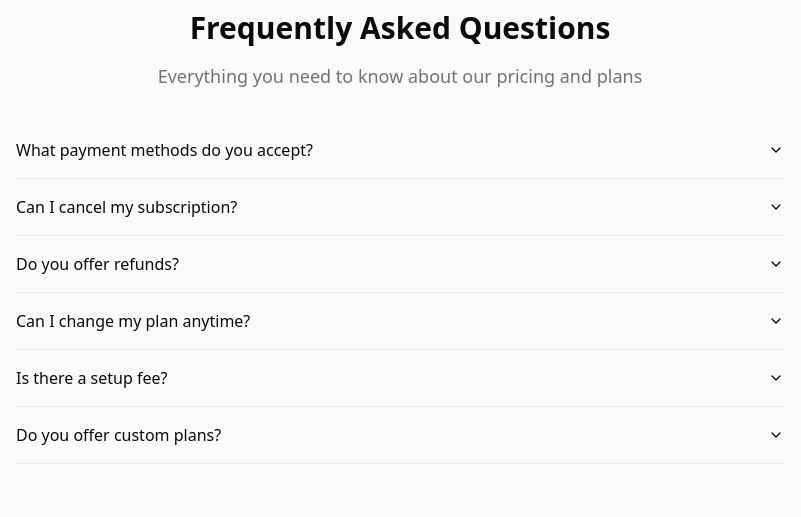
Test: PricingFAQ › renders FAQ questions and answers
Click the button "What payment methods do you accept?" at (164, 150), box [16,122,784,178]
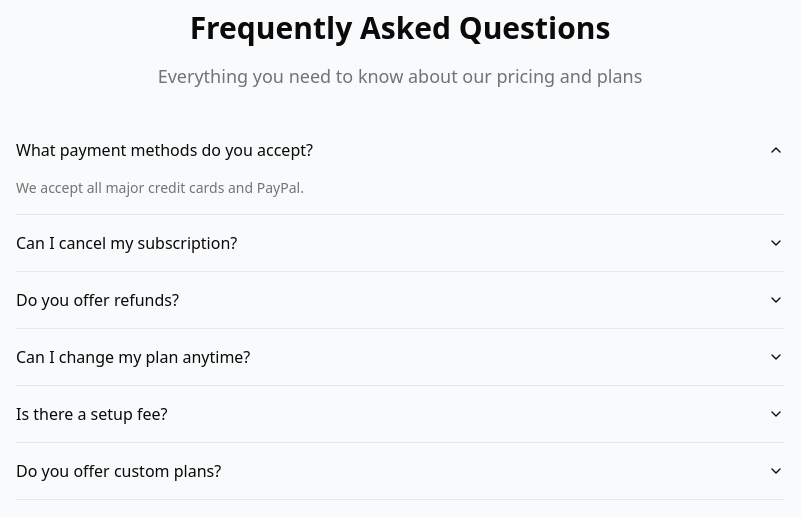
expect the text "We accept all major credit cards and PayPal." is shown: met, box [16,178,304,197]
Click the button "Can I cancel my subscription?" at (127, 243), box [16,215,784,271]
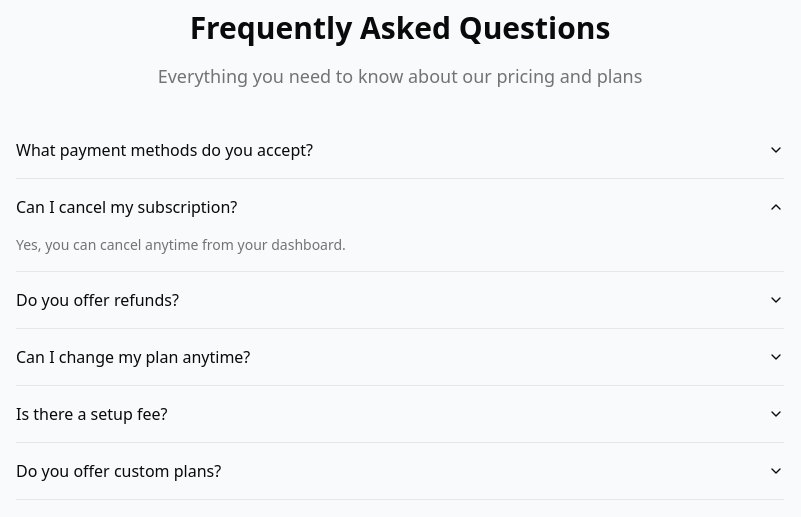
expect the text "Yes, you can cancel anytime from your dashboard." is shown: met, box [16,235,346,254]
Click the button "Do you offer refunds?" at (97, 300), box [16,272,784,328]
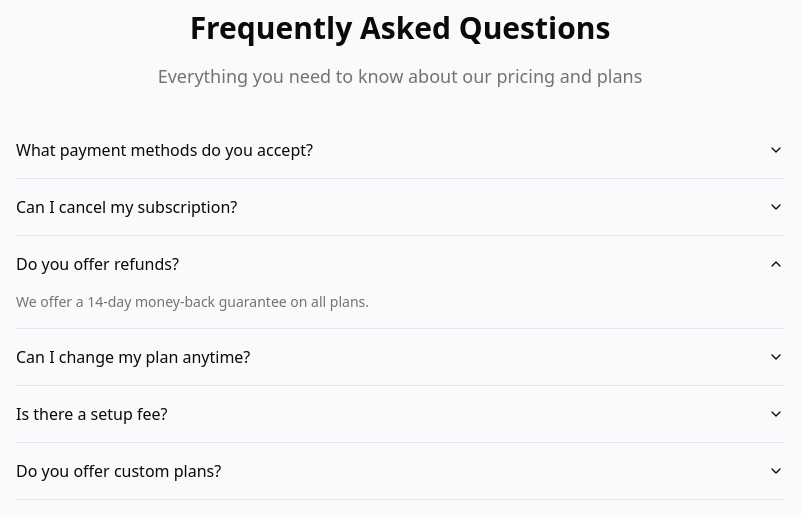
expect the text "We offer a 14-day money-back guarantee on all plans." is shown: met, box [16,292,369,311]
